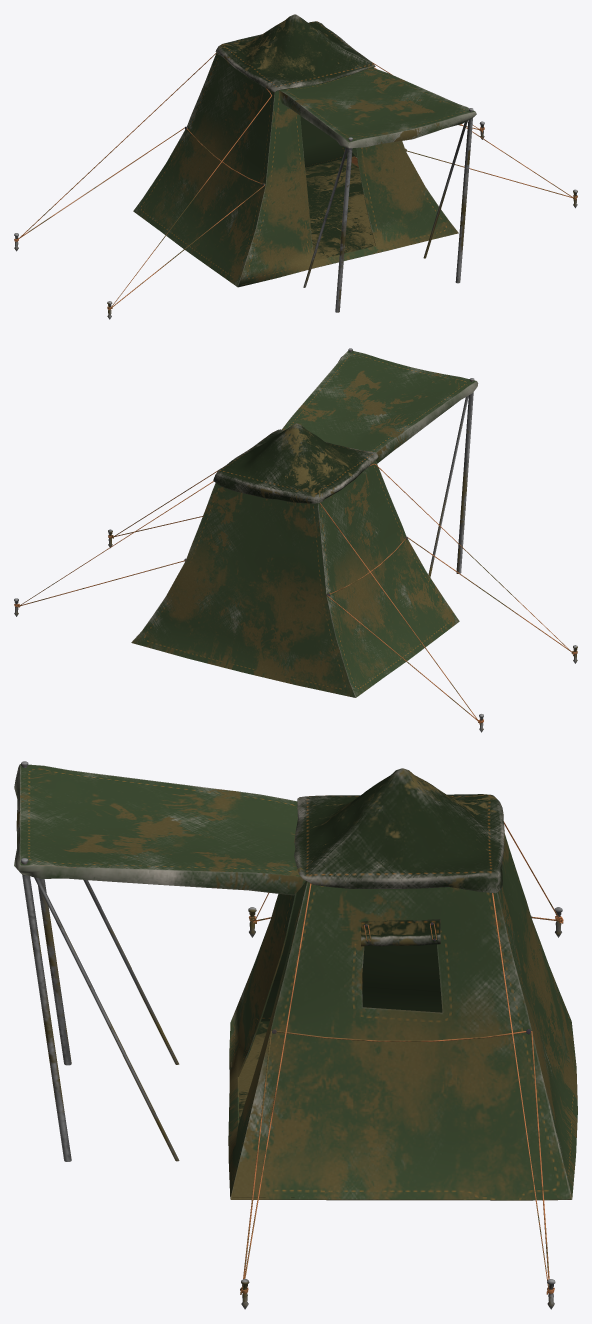
The model's file is tent_xyz.glb.
The picture shows the model from 3 angles, top to bottom: view 1: azimuth 30°, elevation 25°; view 2: azimuth 150°, elevation 25°; view 3: azimuth 270°, elevation 25°; orthographic projection. The views are drawn at different scales.
Parts seen in each view (by area): view 1: TANT; view 2: TANT; view 3: TANT.
Boxes of the visible parts, x1,y1,x2,y2 form: TANT: (14, 14, 577, 319); TANT: (14, 348, 577, 732); TANT: (14, 761, 577, 1309).
Size of the model in its own units: 611 by 269 by 388.
1 material, 1 textured.
